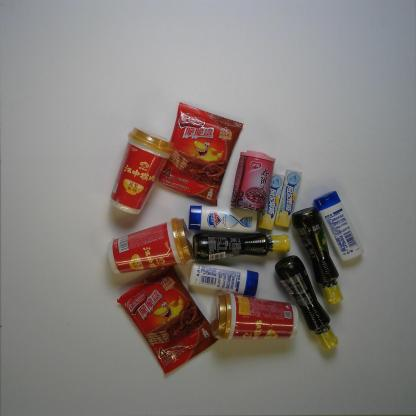Candy: (256, 172, 286, 232), (274, 169, 303, 229)
Canned Food: (230, 149, 276, 213)
Dessert: (116, 265, 219, 375), (156, 100, 245, 206)
Instant Drink: (107, 126, 175, 218), (105, 216, 195, 276), (209, 289, 300, 341)
Personal Hygiene: (312, 190, 364, 262), (188, 262, 260, 298), (188, 204, 259, 235)
Seasoner: (274, 254, 338, 350), (291, 206, 344, 306), (191, 232, 292, 262)
